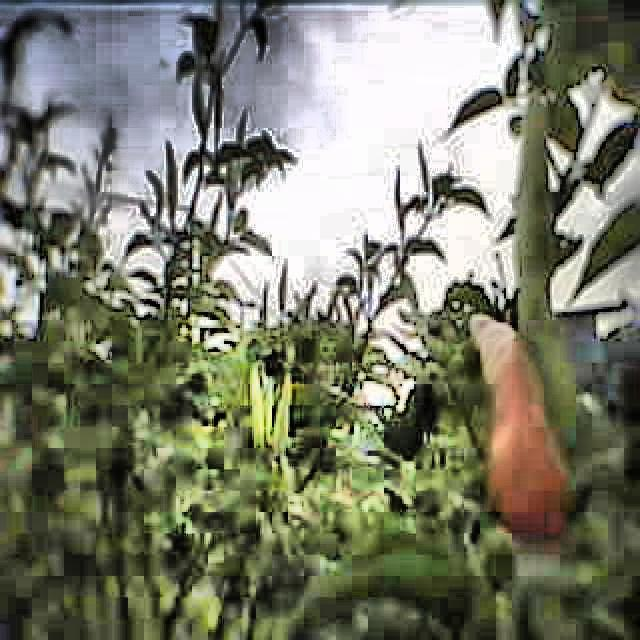Cabai: (475, 315, 560, 530)
